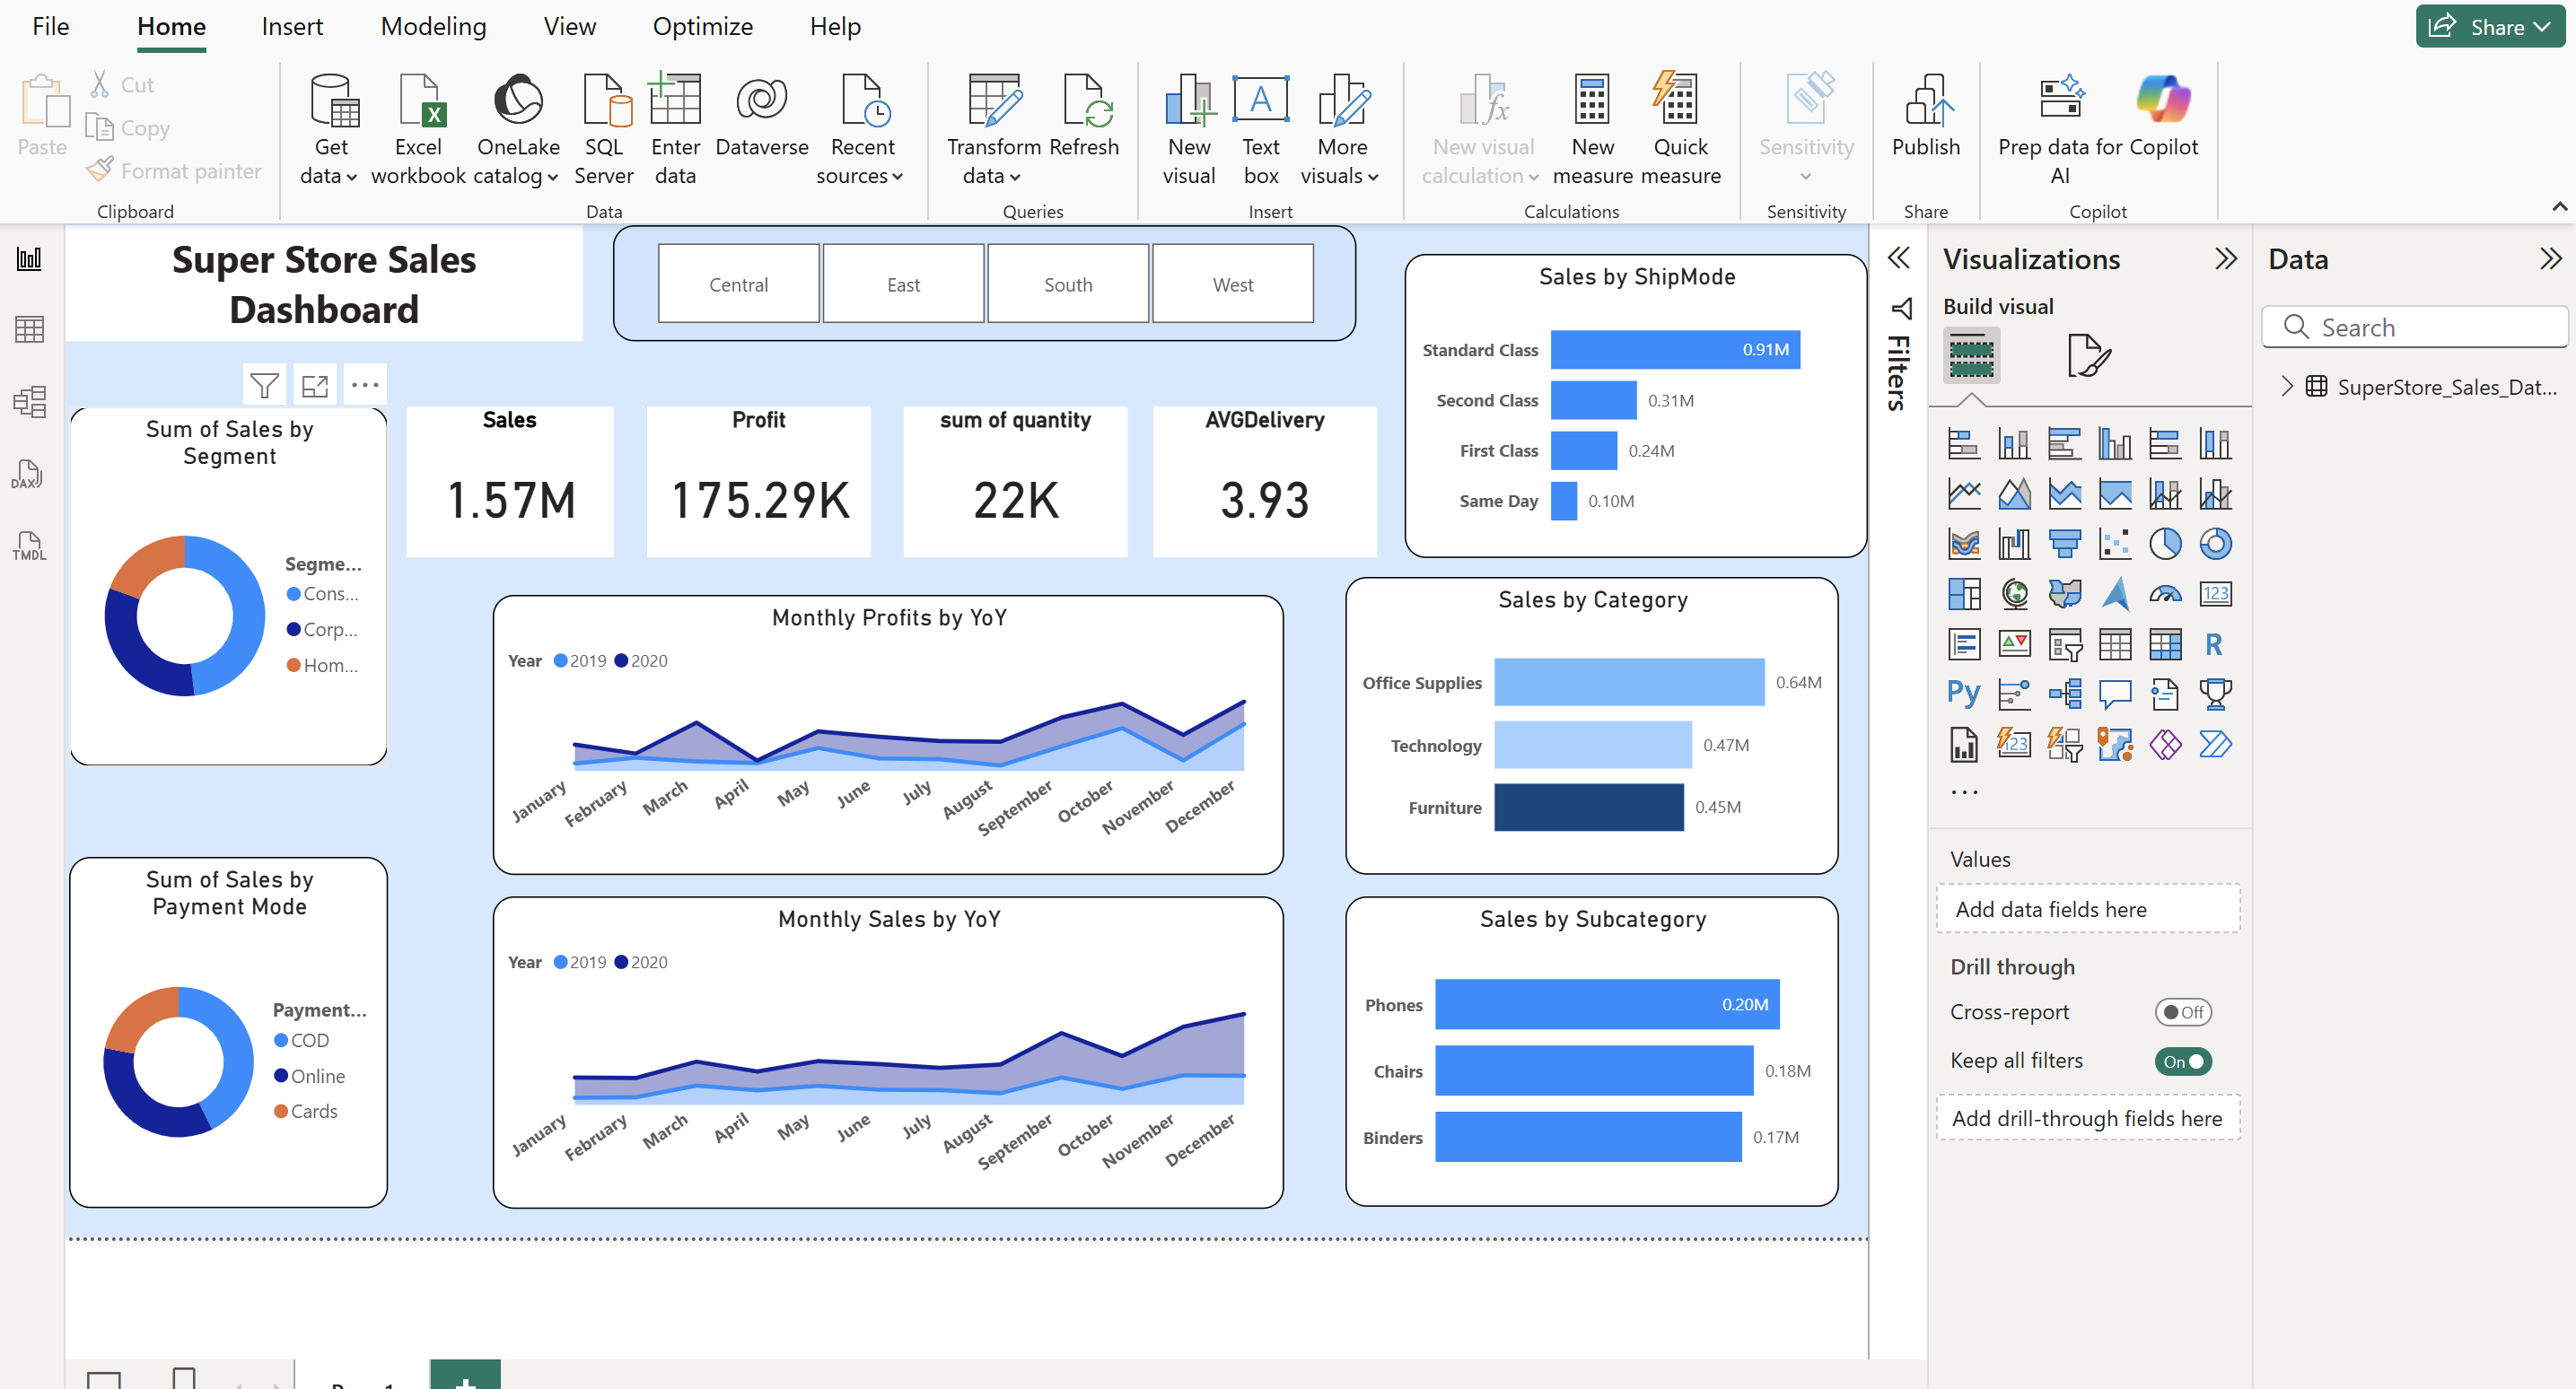

What the dashboard file says about the page in this screenshot:
{"tool":"powerbi","page":{"name":"Page 1","canvas":[1280,720],"ordinal":0},"visuals":[{"type":"clusteredBarChart","title":"Sales by Category","fields":{"Category":["SuperStore_Sales_Dataset.Category"],"Y":["Sum(SuperStore_Sales_Dataset.Sales)"]},"box":[909.5,251.1,350.6,211.3],"z":0},{"type":"clusteredBarChart","title":"Sales by Subcategory","fields":{"Category":["SuperStore_Sales_Dataset.Sub-Category"],"Y":["Sum(SuperStore_Sales_Dataset.Sales)"]},"box":[909.5,477.7,350.6,220.5],"z":1000},{"type":"clusteredBarChart","title":"Sales by ShipMode","fields":{"Y":["Sum(SuperStore_Sales_Dataset.Sales)"],"Category":["SuperStore_Sales_Dataset.Ship Mode"]},"box":[950.8,21.4,329.2,215.9],"z":2000},{"type":"stackedAreaChart","title":"Monthly Sales by YoY","fields":{"Y":["Sum(SuperStore_Sales_Dataset.Sales)"],"Category":["SuperStore_Sales_Dataset.Order Date.Variation.Date Hierarchy.Month","SuperStore_Sales_Dataset.Order Date.Variation.Date Hierarchy.Day"],"Series":["SuperStore_Sales_Dataset.Order Date.Variation.Date Hierarchy.Year"]},"box":[303.2,477.7,561.9,222],"z":3000},{"type":"stackedAreaChart","title":"Monthly Profits by YoY","fields":{"Category":["SuperStore_Sales_Dataset.Order Date.Variation.Date Hierarchy.Month","SuperStore_Sales_Dataset.Order Date.Variation.Date Hierarchy.Day"],"Series":["SuperStore_Sales_Dataset.Order Date.Variation.Date Hierarchy.Year"],"Y":["Sum(SuperStore_Sales_Dataset.Profit)"]},"box":[303.2,263.3,561.9,199],"z":4000},{"type":"donutChart","fields":{"Category":["SuperStore_Sales_Dataset.Segment"],"Y":["Sum(SuperStore_Sales_Dataset.Sales)"]},"box":[3.1,130.1,226.6,255.7],"z":5000},{"type":"donutChart","fields":{"Y":["Sum(SuperStore_Sales_Dataset.Sales)"],"Category":["SuperStore_Sales_Dataset.Payment Mode"]},"box":[3.1,450.1,226.6,249.6],"z":6000},{"type":"slicer","fields":{"Values":["SuperStore_Sales_Dataset.Region"]},"box":[388.9,1.5,528.2,82.7],"z":7000},{"type":"textbox","box":[0,1.5,367.5,82.7],"z":8000},{"type":"card","title":"Sales","fields":{"Values":["Sum(SuperStore_Sales_Dataset.Sales)"]},"box":[241.9,130.1,147,107.2],"z":9000},{"type":"card","title":"Profit","fields":{"Values":["Sum(SuperStore_Sales_Dataset.Profit)"]},"box":[413.4,130.1,159.2,107.2],"z":10000},{"type":"card","title":"sum of quantity","fields":{"Values":["Sum(SuperStore_Sales_Dataset.Quantity)"]},"box":[595.6,130.1,159.2,107.2],"z":11000},{"type":"card","title":"AVGDelivery","fields":{"Values":["Avg(SuperStore_Sales_Dataset.avgdelivery)"]},"box":[773.2,130.1,159.2,107.2],"z":12000}]}

Visuals, with their boxes on the page's 1280x720 design canvas (x1, y1, x2, y2). These are canvas units, not pixel positions in the 2576x1389 screenshot, which may show the page scaled, cropped or inside an application window:
"Sales by Category" clusteredBarChart: <bbox>910, 251, 1260, 462</bbox>
"Sales by Subcategory" clusteredBarChart: <bbox>910, 478, 1260, 698</bbox>
"Sales by ShipMode" clusteredBarChart: <bbox>951, 21, 1280, 237</bbox>
"Monthly Sales by YoY" stackedAreaChart: <bbox>303, 478, 865, 700</bbox>
"Monthly Profits by YoY" stackedAreaChart: <bbox>303, 263, 865, 462</bbox>
donutChart - SuperStore_Sales_Dataset.Segment x Sum(SuperStore_Sales_Dataset.Sales): <bbox>3, 130, 230, 386</bbox>
donutChart - Sum(SuperStore_Sales_Dataset.Sales) x SuperStore_Sales_Dataset.Payment Mode: <bbox>3, 450, 230, 700</bbox>
slicer - SuperStore_Sales_Dataset.Region: <bbox>389, 2, 917, 84</bbox>
textbox: <bbox>0, 2, 368, 84</bbox>
"Sales" card: <bbox>242, 130, 389, 237</bbox>
"Profit" card: <bbox>413, 130, 573, 237</bbox>
"sum of quantity" card: <bbox>596, 130, 755, 237</bbox>
"AVGDelivery" card: <bbox>773, 130, 932, 237</bbox>
